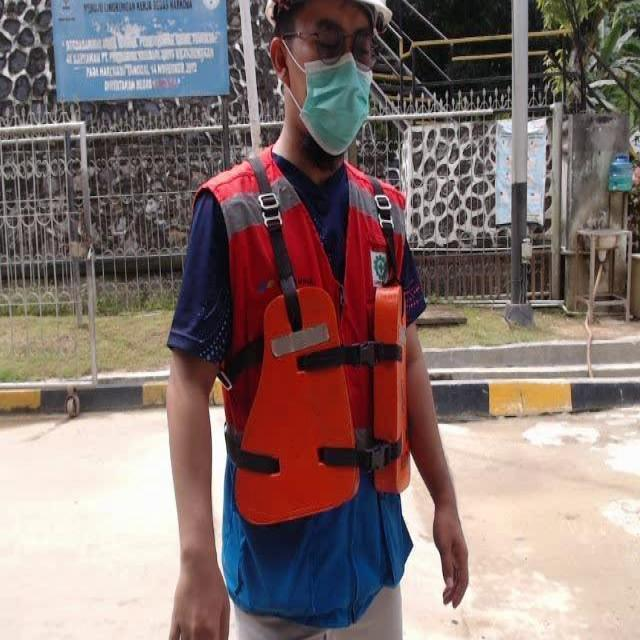Vest: (232, 277, 422, 524)
